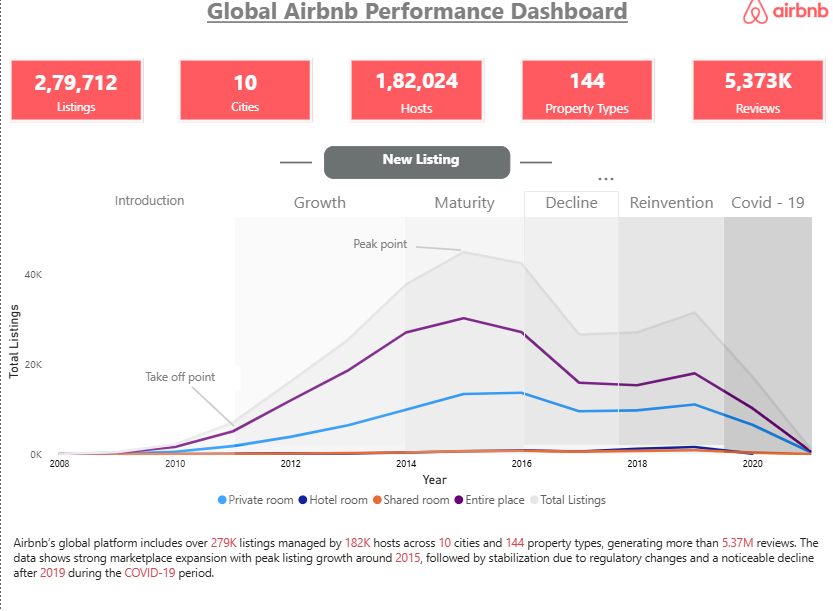

The dashboard page shown, as its layout file describes it:
{"tool":"powerbi","page":{"name":"Overview","canvas":[960,720],"ordinal":0},"visuals":[{"type":"textbox","box":[203.7,0,552.7,61.2],"z":0},{"type":"image","box":[851.5,0,108.5,48.5],"z":1000},{"type":"card","fields":{"Values":["CountNonNull(Listings.listing_id)"]},"box":[9.2,78.5,154.6,73.8],"z":2000},{"type":"card","fields":{"Values":["Count(Listings.city)"]},"box":[204.2,78.5,154.6,73.8],"z":3000},{"type":"card","fields":{"Values":["Count(Listings.host_id)"]},"box":[401.2,78.5,155.8,73.8],"z":4000},{"type":"card","fields":{"Values":["Count(Listings.property_type)"]},"box":[599.2,78.5,154.6,73.8],"z":5000},{"type":"card","fields":{"Values":["Count(Reviews.review_id)"]},"box":[796.2,78.5,154.6,73.8],"z":6000},{"type":"lineChart","fields":{"Category":["Listings.host_since.Variation.Date Hierarchy.Year"],"Y":["Listings.Private room","Listings.Hotel room","Listings.Shared room","Listings.Entire place","CountNonNull(Listings.listing_id)"]},"box":[1.2,261.9,949.6,345],"z":7000},{"type":"textbox","box":[372.7,180,214.6,38.1],"z":8000},{"type":"shape","box":[321.9,159.2,36.9,79.6],"z":9000},{"type":"shape","box":[598.8,159.2,36.9,79.6],"z":10000},{"type":"shape","title":"Introduction","box":[72.7,231.9,197.3,409.6],"z":11000},{"type":"shape","title":"Growth","box":[270,231.9,196.2,293.1],"z":12000},{"type":"shape","title":"Maturity","box":[466.2,231.9,137.3,302.3],"z":13000},{"type":"shape","title":"Reinvention","box":[713.1,231.9,121.2,293.1],"z":14000},{"type":"shape","title":"Decline","box":[603.5,231.9,109.6,293.1],"z":15000},{"type":"shape","title":"Covid - 19","box":[834.2,231.9,101.5,302.3],"z":16000},{"type":"textbox","box":[161.5,432.7,115.4,30],"z":17000},{"type":"shape","box":[219.2,360,50.8,241.2],"z":18000},{"type":"textbox","box":[401.5,279.2,106.2,38.1],"z":19000},{"type":"shape","box":[478.8,279.2,51.9,38.1],"z":20000},{"type":"textbox","box":[9.2,624.2,941.5,85.4],"z":21000}]}

Visuals, with their boxes in screenshot pixels (x1, y1, x2, y2), scaled from the page's 960x720 canvas onto the 833x611 screenshot:
textbox: Rect(177, 0, 656, 52)
image: Rect(739, 0, 832, 41)
card - CountNonNull(Listings.listing_id): Rect(8, 67, 142, 129)
card - Count(Listings.city): Rect(177, 67, 311, 129)
card - Count(Listings.host_id): Rect(348, 67, 483, 129)
card - Count(Listings.property_type): Rect(520, 67, 654, 129)
card - Count(Reviews.review_id): Rect(691, 67, 825, 129)
lineChart - Listings.host_since.Variation.Date Hierarchy.Year x Listings.Private room: Rect(1, 222, 825, 515)
textbox: Rect(323, 153, 510, 185)
shape: Rect(279, 135, 311, 203)
shape: Rect(520, 135, 552, 203)
"Introduction" shape: Rect(63, 197, 234, 544)
"Growth" shape: Rect(234, 197, 405, 446)
"Maturity" shape: Rect(405, 197, 524, 453)
"Reinvention" shape: Rect(619, 197, 724, 446)
"Decline" shape: Rect(524, 197, 619, 446)
"Covid - 19" shape: Rect(724, 197, 812, 453)
textbox: Rect(140, 367, 240, 393)
shape: Rect(190, 306, 234, 510)
textbox: Rect(348, 237, 441, 269)
shape: Rect(415, 237, 460, 269)
textbox: Rect(8, 530, 825, 602)
